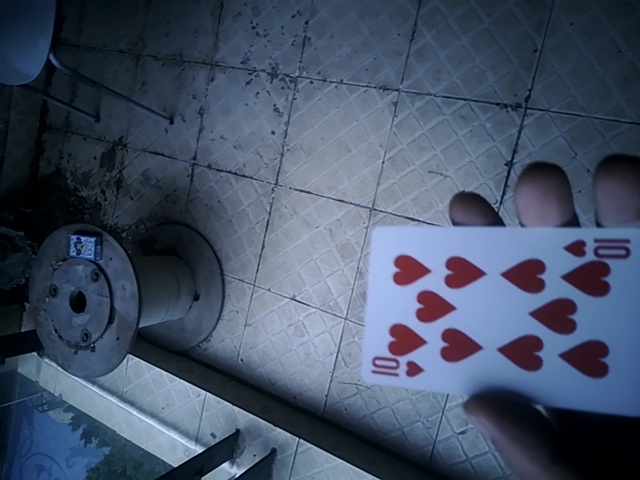hx 10: (360, 220, 637, 406)
